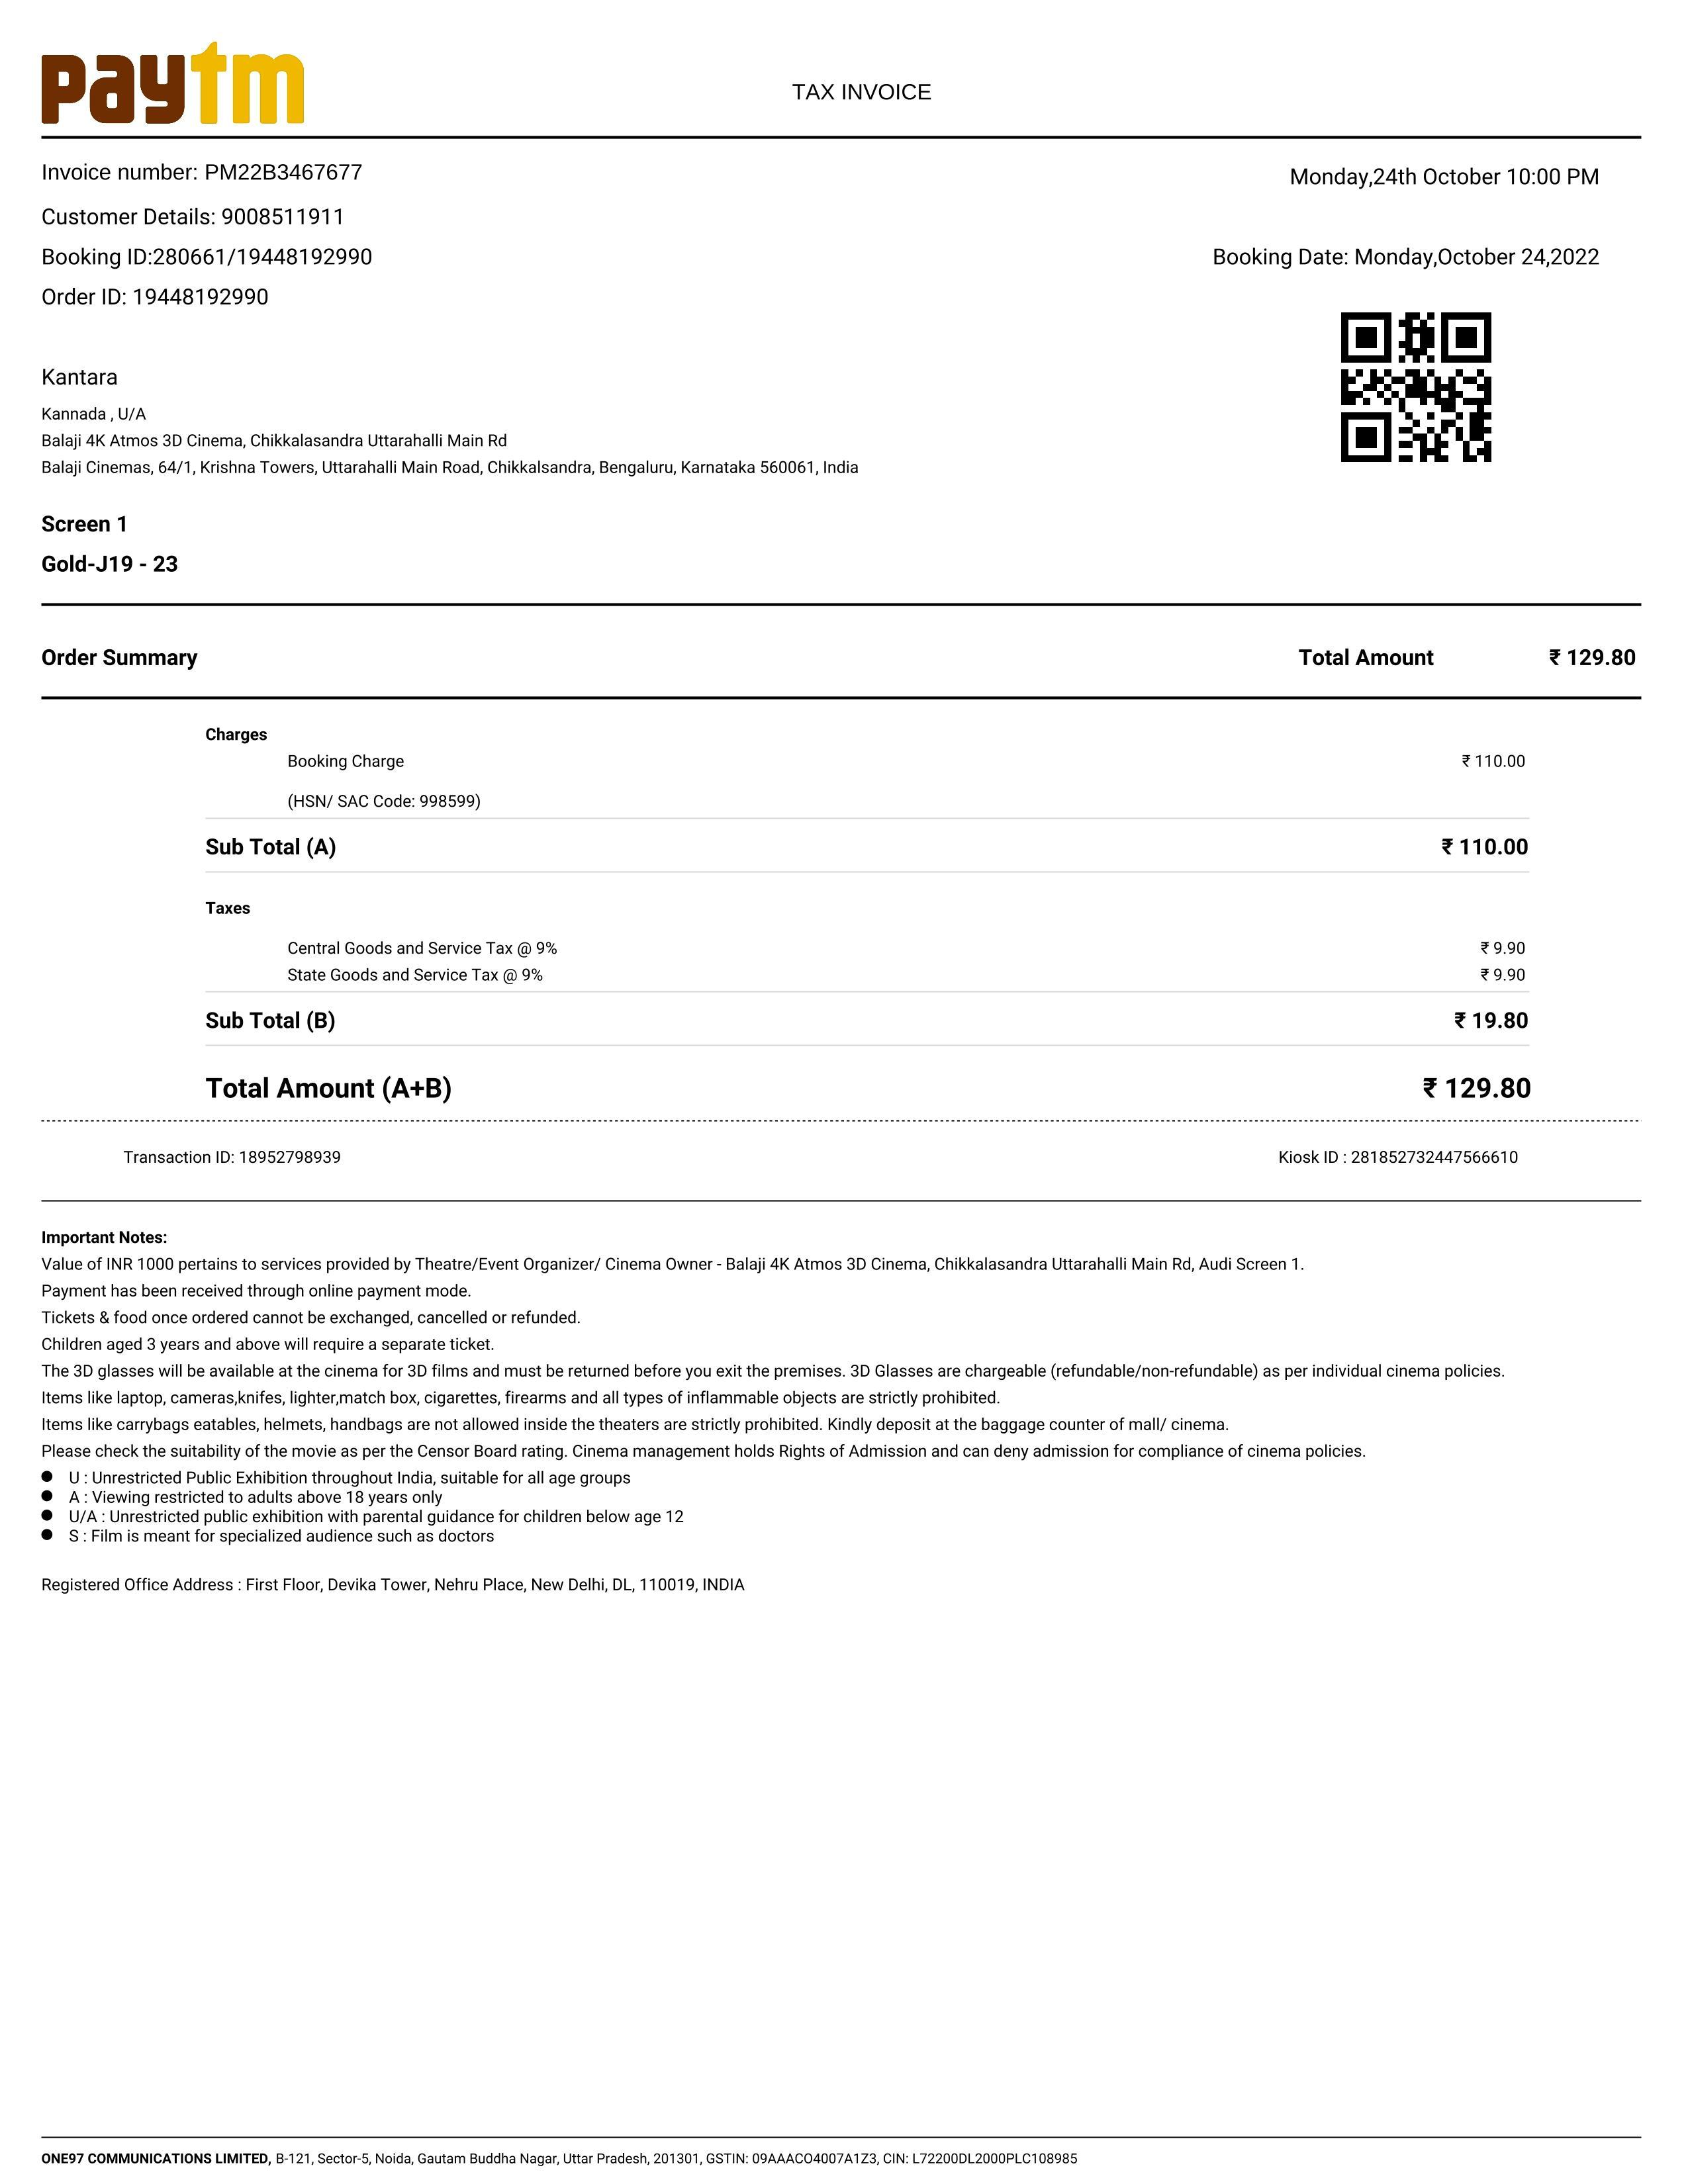InvoiceDate: (1291, 161, 1502, 200)
InvoiceNumber: (206, 161, 369, 184)
TotalAmount: (1418, 1064, 1541, 1110)
